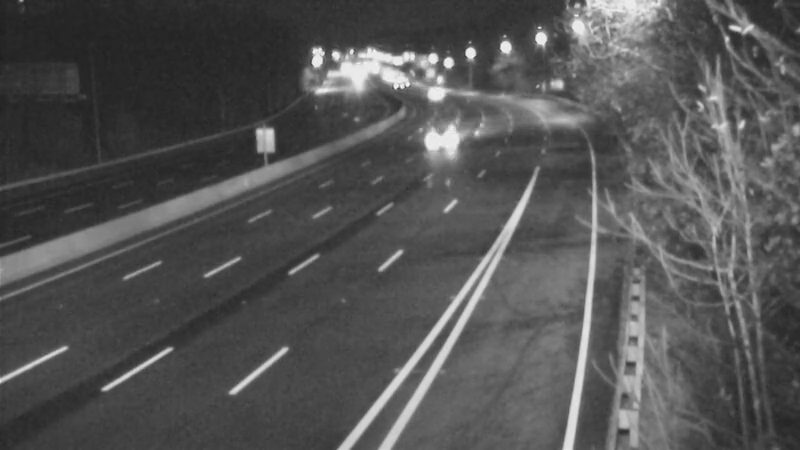vehicle: (416, 71, 466, 121), (421, 118, 471, 168)
